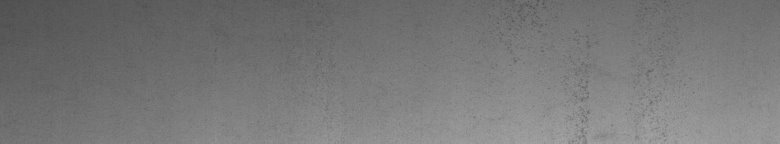ib: (525, 4, 656, 120)
